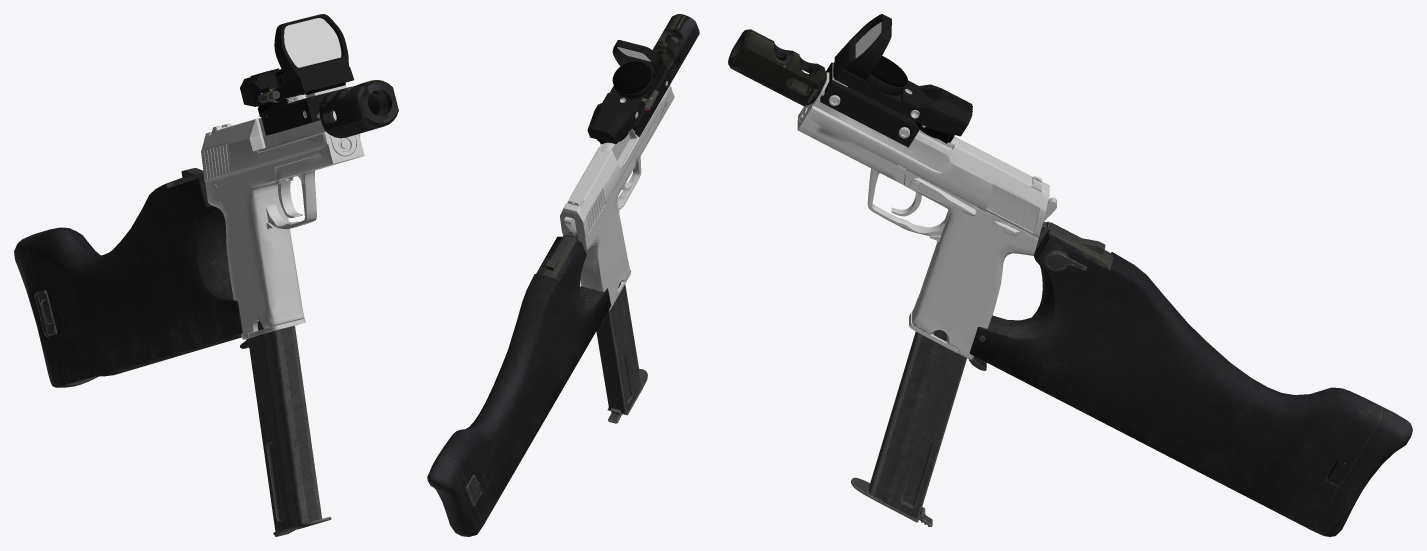
Rendered from mdlMUPPickup Variant.fbx.
3 views of the same model, side by side, from view 1: azimuth 30°, elevation 25°; view 2: azimuth 150°, elevation 25°; view 3: azimuth 270°, elevation 25° (orthographic). The views are drawn at different scales.
Visible parts, largest first — view 1: 24_-Upgrades|Matilda Stock.stockr_0.3_0_0, Model, 24_-Upgrades|Extended Clip.clipextendedr_0.3_0_0, 24_-Upgrades|Barrel.extensionr_0.3_0_0, Body, Body.003, pikatini, Top_projector, Body.002; view 2: 24_-Upgrades|Matilda Stock.stockr_0.3_0_0, Model, 24_-Upgrades|Extended Clip.clipextendedr_0.3_0_0, Body, 24_-Upgrades|Barrel.extensionr_0.3_0_0, Top_projector, sel_color_top, pikatini; view 3: 24_-Upgrades|Matilda Stock.stockr_0.3_0_0, Model, 24_-Upgrades|Extended Clip.clipextendedr_0.3_0_0, 24_-Upgrades|Barrel.extensionr_0.3_0_0, Body, fixator, Top_projector.
Boxes of the visible parts, left/top/right/bottom form: 24_-Upgrades|Matilda Stock.stockr_0.3_0_0: left=14, top=168, right=249, bottom=387; Model: left=201, top=111, right=364, bottom=339; 24_-Upgrades|Extended Clip.clipextendedr_0.3_0_0: left=248, top=321, right=331, bottom=536; 24_-Upgrades|Barrel.extensionr_0.3_0_0: left=319, top=80, right=398, bottom=138; Body: left=242, top=14, right=354, bottom=106; Body.003: left=284, top=18, right=341, bottom=67; pikatini: left=260, top=86, right=354, bottom=135; Top_projector: left=240, top=68, right=281, bottom=94; Body.002: left=282, top=15, right=345, bottom=69; 24_-Upgrades|Matilda Stock.stockr_0.3_0_0: left=427, top=231, right=611, bottom=536; Model: left=560, top=85, right=674, bottom=310; 24_-Upgrades|Extended Clip.clipextendedr_0.3_0_0: left=596, top=282, right=647, bottom=423; Body: left=589, top=40, right=666, bottom=143; 24_-Upgrades|Barrel.extensionr_0.3_0_0: left=653, top=14, right=699, bottom=80; Top_projector: left=587, top=103, right=635, bottom=140; sel_color_top: left=612, top=61, right=651, bottom=93; pikatini: left=632, top=70, right=671, bottom=137; 24_-Upgrades|Matilda Stock.stockr_0.3_0_0: left=969, top=221, right=1412, bottom=536; Model: left=797, top=72, right=1057, bottom=359; 24_-Upgrades|Extended Clip.clipextendedr_0.3_0_0: left=851, top=207, right=985, bottom=526; 24_-Upgrades|Barrel.extensionr_0.3_0_0: left=728, top=29, right=826, bottom=106; Body: left=834, top=14, right=964, bottom=136; fixator: left=820, top=81, right=918, bottom=147; Top_projector: left=919, top=84, right=972, bottom=129.
Bounding box in the file's own units: 49.46 × 394 × 481.
